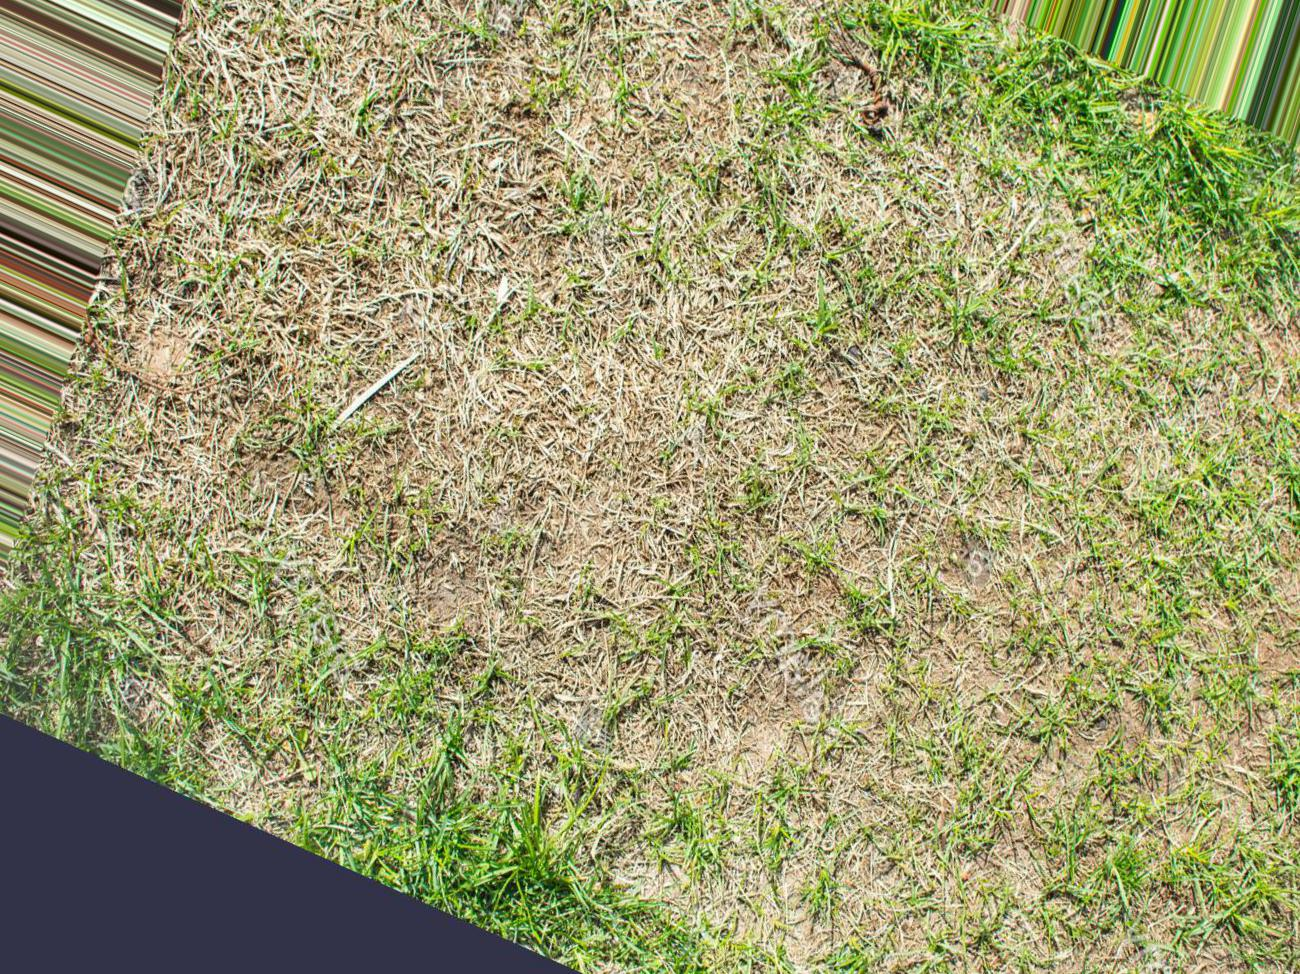patch: (213, 34, 785, 659)
